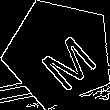M_NW: (25, 19, 94, 88)
